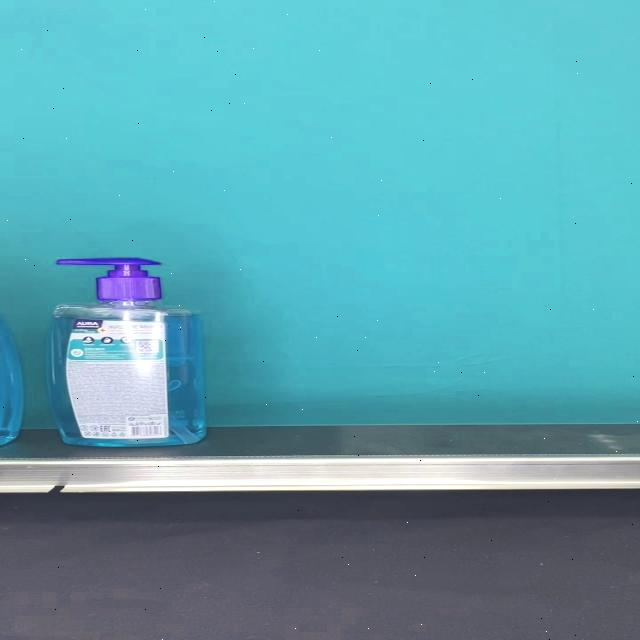Bottle: (47, 258, 207, 447)
Cap: (57, 258, 161, 301)
